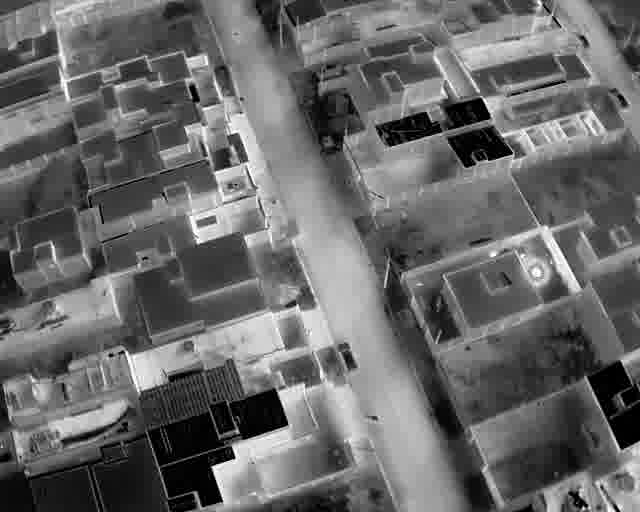car: (335, 339, 359, 377), (609, 86, 632, 111), (315, 61, 341, 78), (573, 26, 590, 51)
motorcycle: (364, 413, 382, 423)
